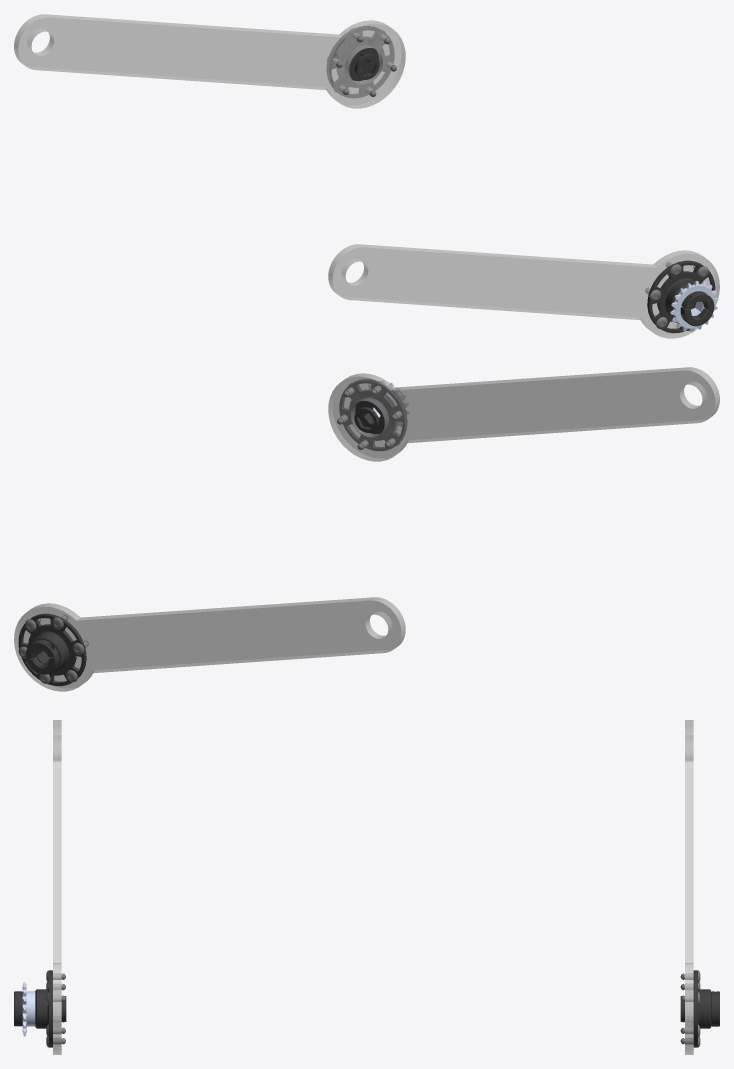
3 renders of one model, top to bottom at view 1: azimuth 30°, elevation 25°; view 2: azimuth 150°, elevation 25°; view 3: azimuth 270°, elevation 25°, orthographic.
Visible parts, largest first — view 1: 1/2" Hex Clamping Shaft Collar (217-2737).002; view 2: 1/2" Hex Clamping Shaft Collar (217-2737).002; view 3: 1/2" Hex Clamping Shaft Collar (217-2737).002.
Boxes of the visible parts, x1,y1,x2,y2 form: 1/2" Hex Clamping Shaft Collar (217-2737).002: (14, 14, 719, 338); 1/2" Hex Clamping Shaft Collar (217-2737).002: (14, 367, 719, 691); 1/2" Hex Clamping Shaft Collar (217-2737).002: (14, 720, 719, 1054).
Size of the model in its own units: 0.3255 by 0.1352 by 0.5108.
